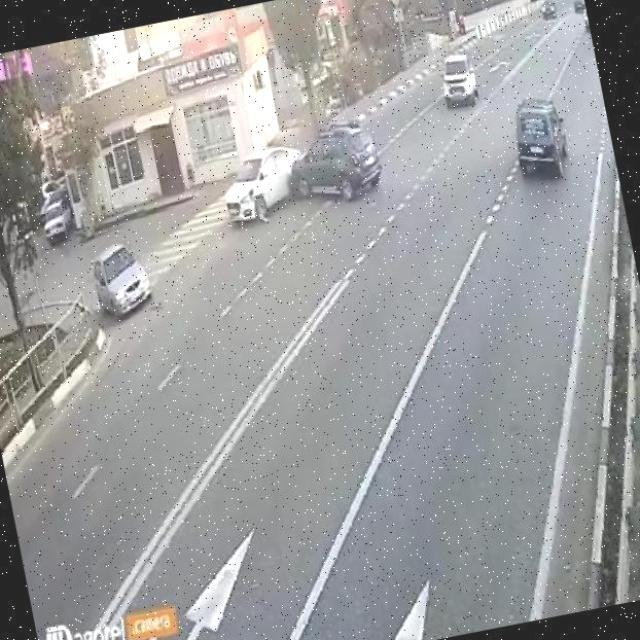accident: (241, 127, 338, 217)
